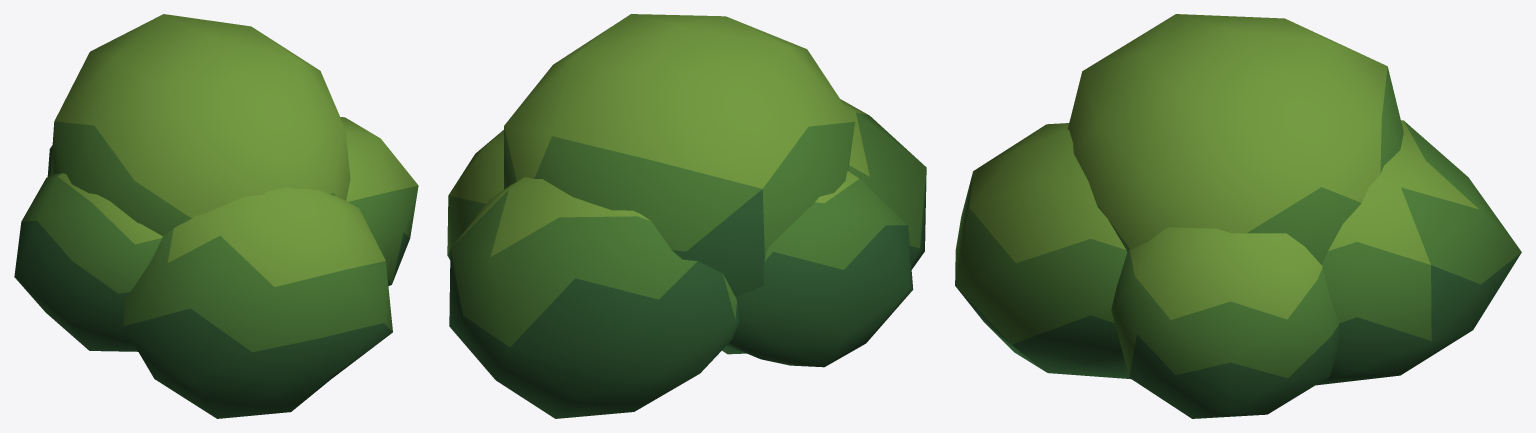
Rendered from BushB_LOD.glb.
The picture shows the model from 3 angles, left to right: view 1: azimuth 30°, elevation 25°; view 2: azimuth 150°, elevation 25°; view 3: azimuth 270°, elevation 25°; orthographic projection. The views are drawn at different scales.
Parts seen in each view (by area): view 1: BushB_LOD.leafLight, BushB_LOD.leafMid, BushB_LOD.leafDark; view 2: BushB_LOD.leafMid, BushB_LOD.leafDark, BushB_LOD.leafLight; view 3: BushB_LOD.leafLight, BushB_LOD.leafMid, BushB_LOD.leafDark.
Part boxes in pixels (<box>): BushB_LOD.leafLight: <box>54,14,418,286</box>; BushB_LOD.leafMid: <box>21,121,418,352</box>; BushB_LOD.leafDark: <box>14,148,409,418</box>; BushB_LOD.leafMid: <box>447,112,926,346</box>; BushB_LOD.leafDark: <box>447,169,926,418</box>; BushB_LOD.leafLight: <box>448,14,869,256</box>; BushB_LOD.leafLight: <box>969,14,1478,319</box>; BushB_LOD.leafMid: <box>955,67,1521,378</box>; BushB_LOD.leafDark: <box>956,252,1521,418</box>.
Bounding box in the file's own units: 3.7 × 2.69 × 4.08.
